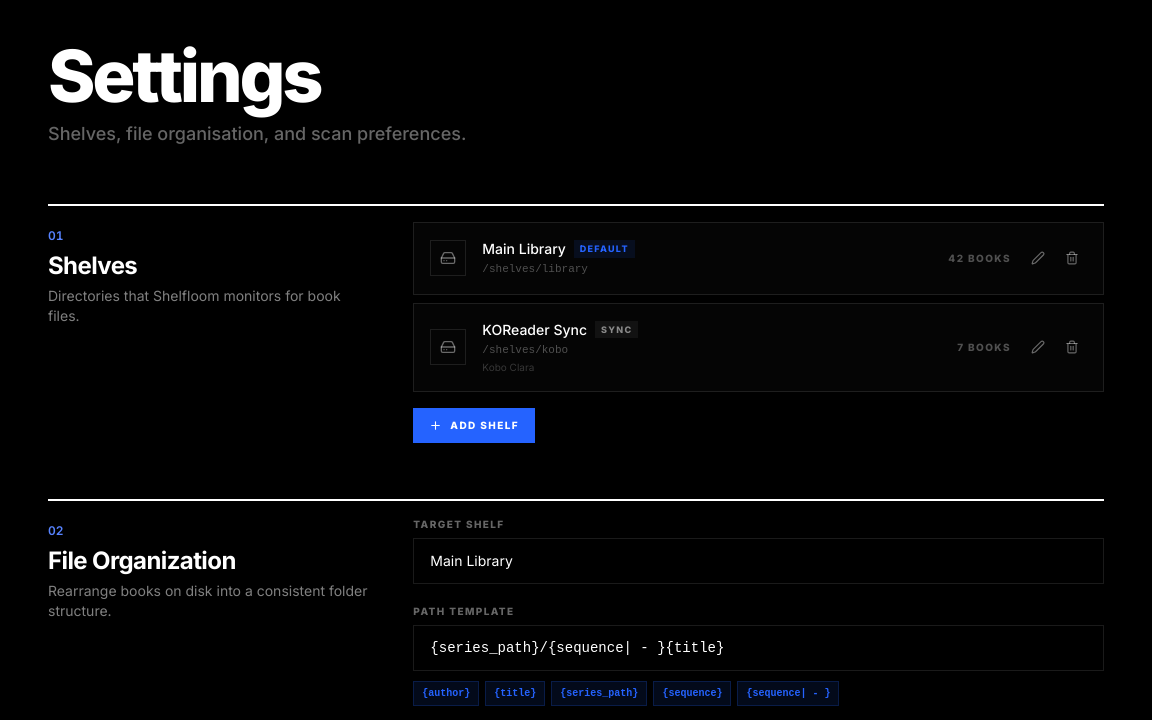
Test: Settings › add shelf button opens modal
This screenshot has width=1152, height=720.
Click the button with test id "add-shelf-btn": (474, 426) [413,408,535,443]
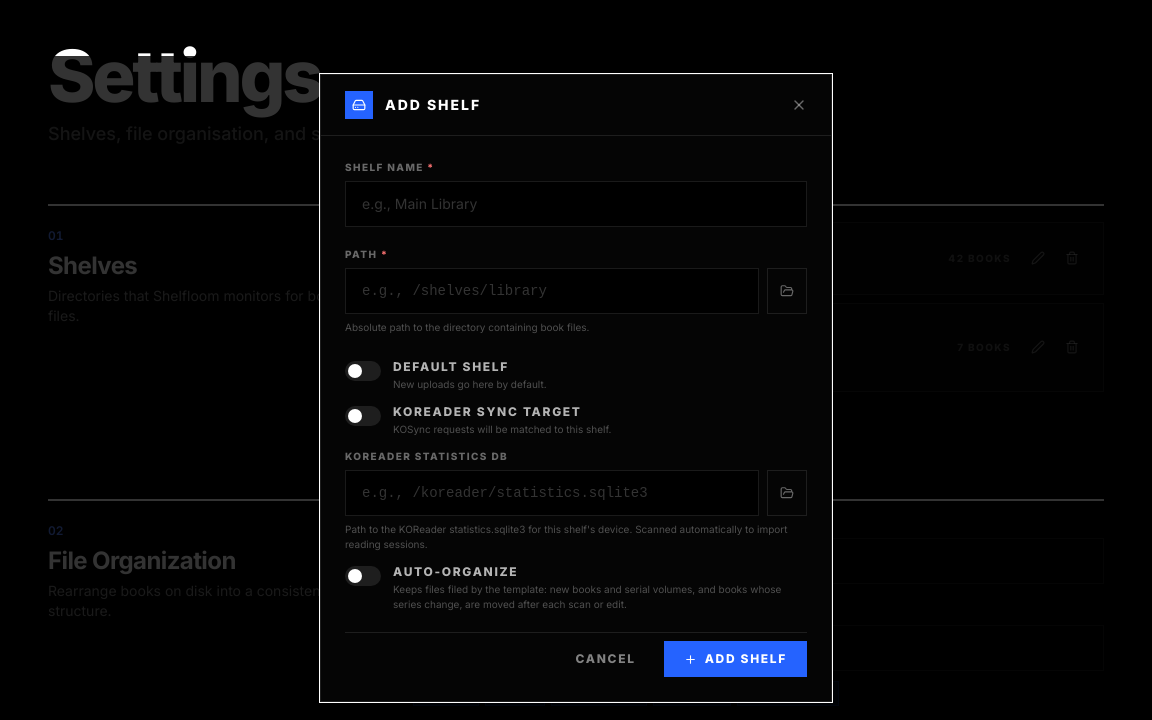
Expected: the element with test id "shelf-modal" is shown
